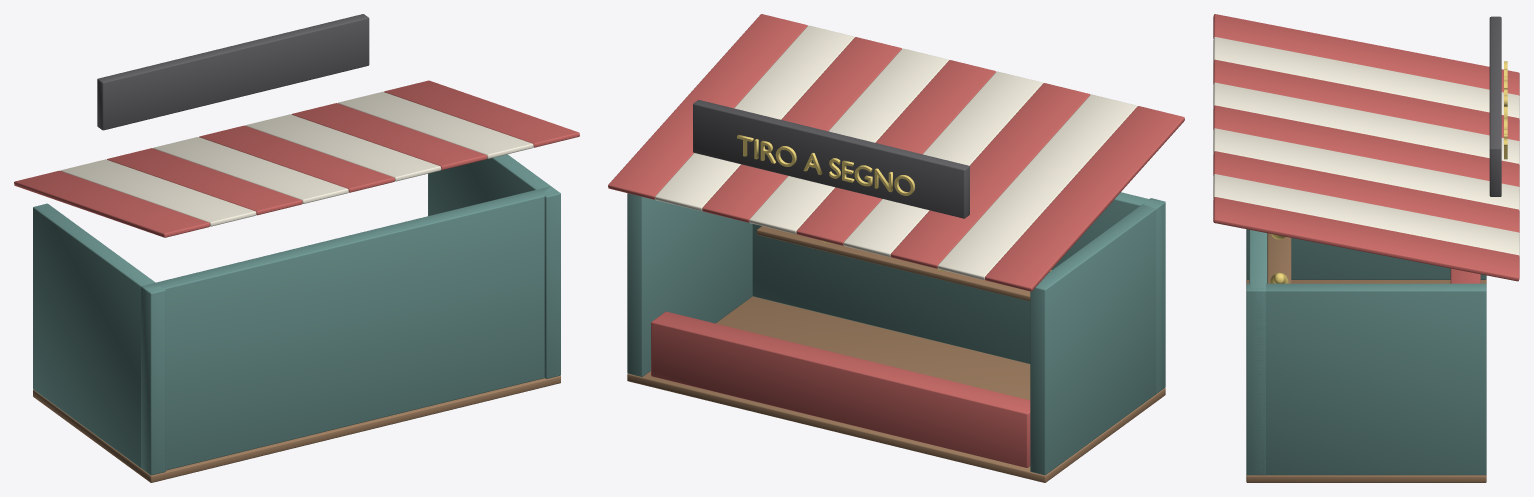
File: tiro_a_segno.glb
3 views of the same model, side by side, from view 1: azimuth 30°, elevation 25°; view 2: azimuth 150°, elevation 25°; view 3: azimuth 270°, elevation 25° (orthographic).
Visible parts, largest first — view 1: fondale, fianco_-1, insegna_fondo, fianco_1, falda_0, pedana, falda_8, falda_1, falda_5, falda_6, falda_7, falda_4 (+2 smaller); view 2: bancone, fianco_-1, fondale, pedana, fianco_1, insegna_fondo, falda_0, falda_1, falda_2, falda_8, falda_7, falda_4 (+5 smaller); view 3: fianco_1, falda_8, falda_6, falda_7, falda_5, falda_4, falda_3, falda_0, falda_2, falda_1, fianco_-1, fondale (+5 smaller).
Part boxes in pixels (x1,y1,x2,y2): fondale: (141, 186, 549, 473); fianco_-1: (33, 203, 165, 475); insegna_fondo: (97, 14, 369, 130); fianco_1: (428, 154, 560, 378); falda_0: (14, 170, 210, 237); pedana: (33, 375, 560, 482); falda_8: (384, 80, 579, 147); falda_1: (60, 159, 256, 226); falda_5: (245, 114, 441, 181); falda_6: (291, 103, 487, 170); falda_7: (338, 91, 533, 158); falda_4: (199, 125, 394, 192); bancone: (651, 311, 1030, 467); fianco_-1: (1030, 198, 1165, 475); fondale: (752, 192, 1163, 393); pedana: (627, 296, 1165, 482); fianco_1: (627, 193, 752, 376); insegna_fondo: (693, 100, 969, 218); falda_0: (985, 106, 1184, 291); falda_1: (937, 94, 1137, 279); falda_2: (890, 83, 1090, 268); falda_8: (608, 14, 807, 199); falda_7: (655, 25, 854, 210); falda_4: (796, 60, 995, 245); fianco_1: (1246, 283, 1486, 475); falda_8: (1213, 197, 1519, 281); falda_6: (1213, 151, 1519, 232); falda_7: (1213, 174, 1519, 255); falda_5: (1213, 128, 1519, 209); falda_4: (1213, 105, 1519, 186); falda_3: (1213, 82, 1519, 163); falda_0: (1213, 14, 1519, 95); falda_2: (1213, 59, 1519, 141); falda_1: (1213, 37, 1519, 118); fianco_-1: (1246, 229, 1486, 279); fondale: (1249, 230, 1267, 475).
Size of the model in its own units: 8.1 by 5.5 by 5.09.
